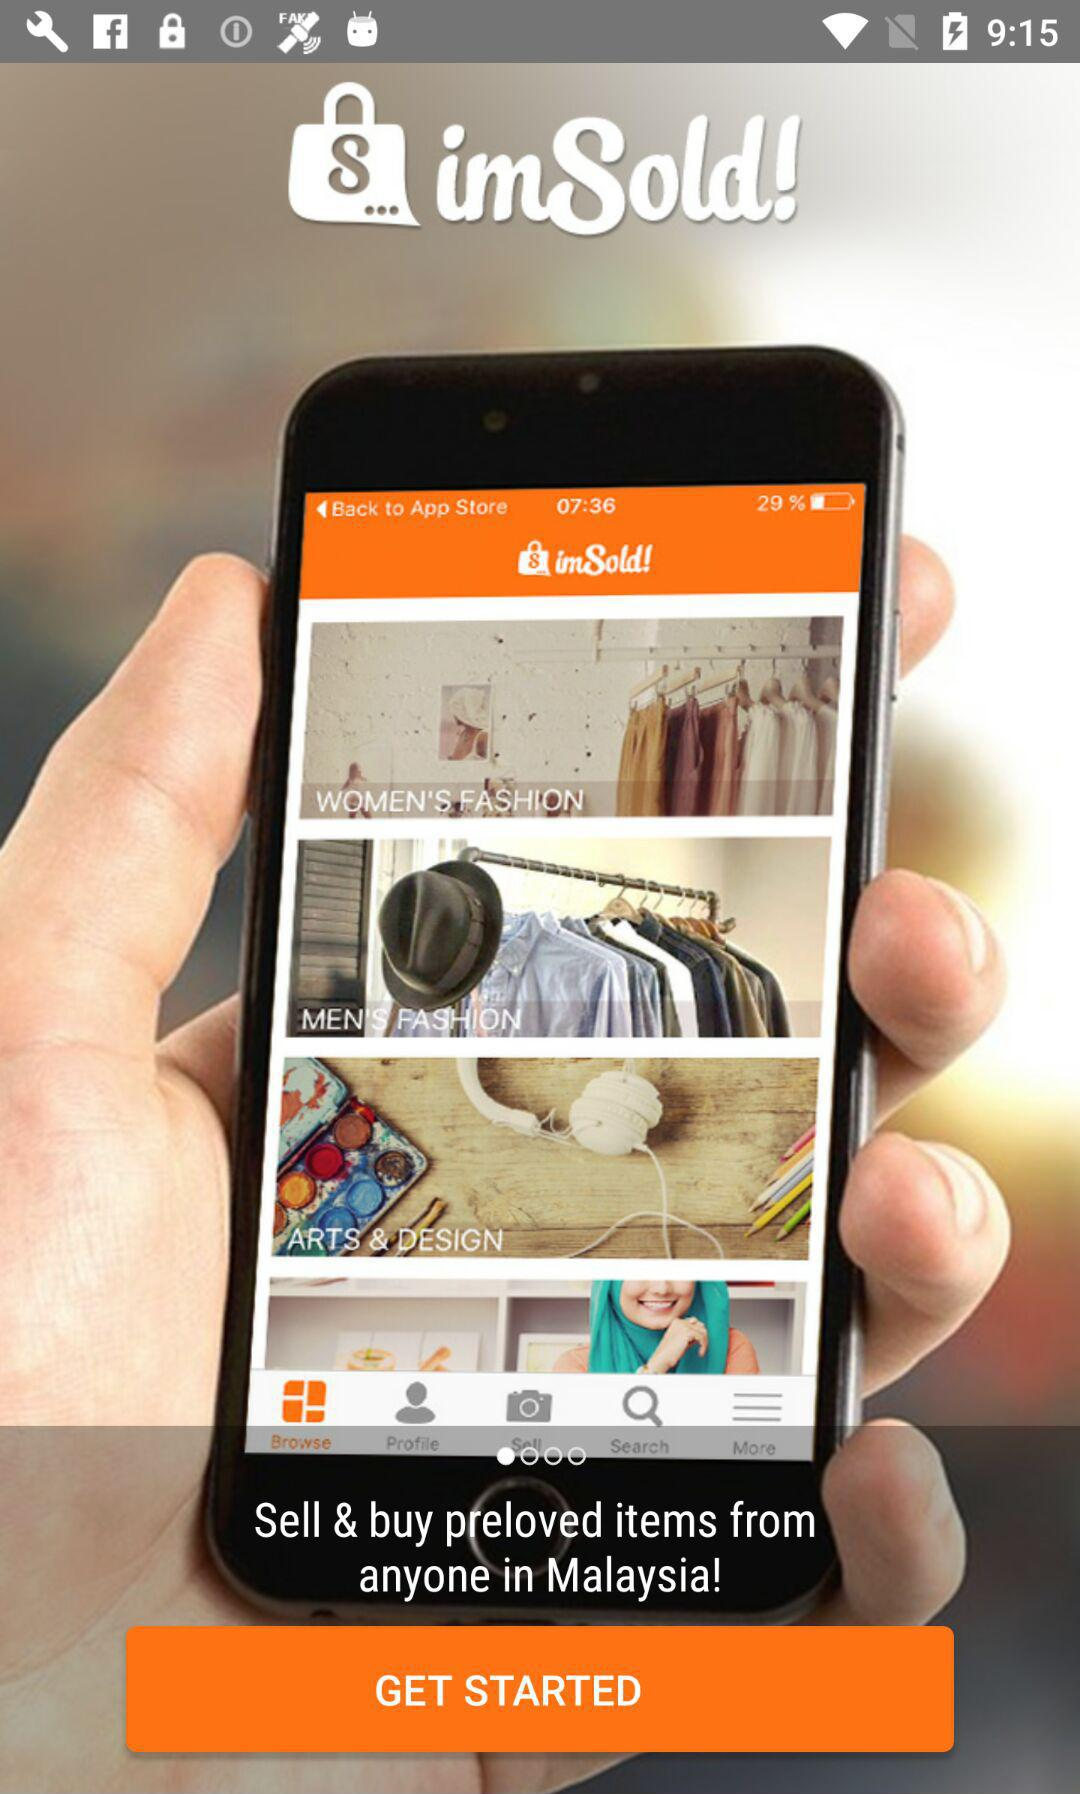BackgroundImage: (1, 64, 1080, 1794)
Image: (287, 82, 802, 238)
PageIndicator: (496, 1445, 588, 1466)
Text: (255, 1501, 815, 1602)
TextButton: (126, 1625, 954, 1753)
UpperTaskBar: (1, 1, 1080, 64)
